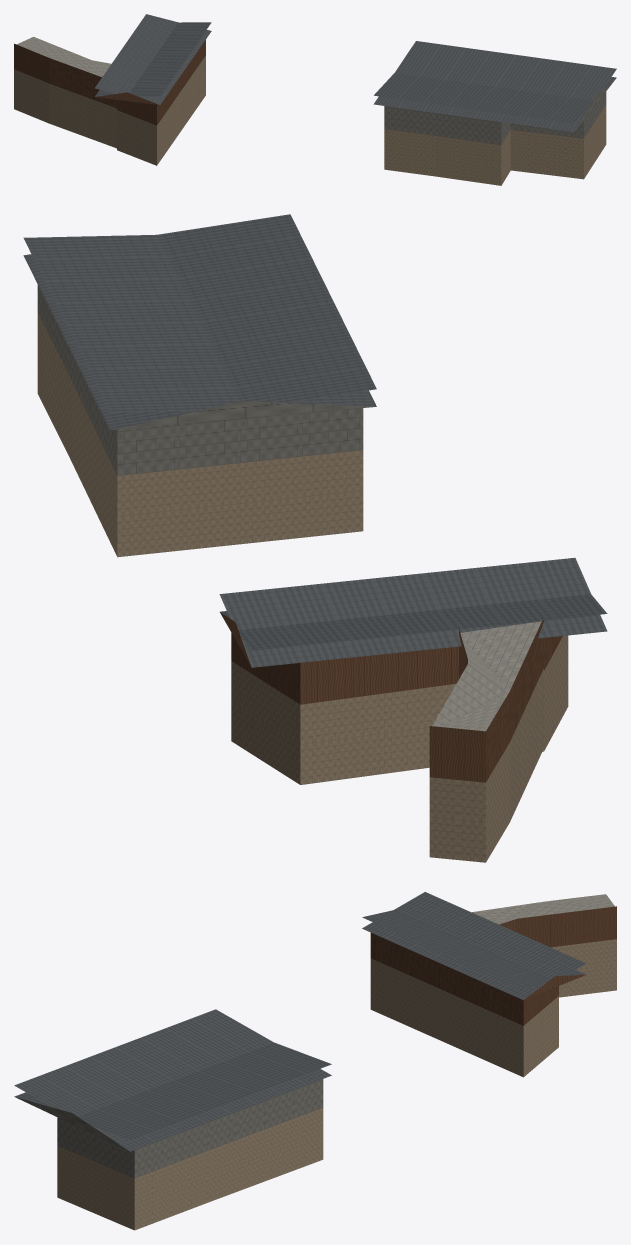
The model's file is bld_c44_47_183.gltf.
3 views of the same model, one above another, from view 1: azimuth 30°, elevation 25°; view 2: azimuth 150°, elevation 25°; view 3: azimuth 270°, elevation 25° (orthographic). The views are drawn at different scales.
Parts seen in each view (by area): view 1: bld_c44_47_183; view 2: bld_c44_47_183; view 3: bld_c44_47_183.
Part boxes in pixels (<box>): bld_c44_47_183: <box>14,14,616,185</box>; bld_c44_47_183: <box>23,214,607,862</box>; bld_c44_47_183: <box>14,892,616,1230</box>.
Size of the model in its own units: 49.71 by 8.7 by 48.62.
Materials: 7 (7 with a texture image).
